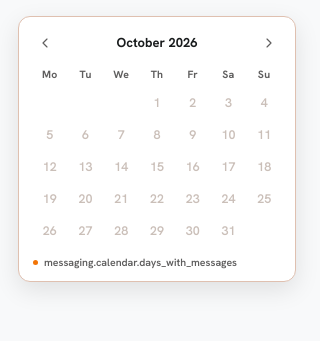
UI-1 DayJumpCalendar › navigating to Aug 2026 shows the 11th and 28th as enabled with a dot, the 12th disabled
Step 1. Click the button named "messaging.calendar.prev_month" → (45, 43), box [33, 31, 57, 55]
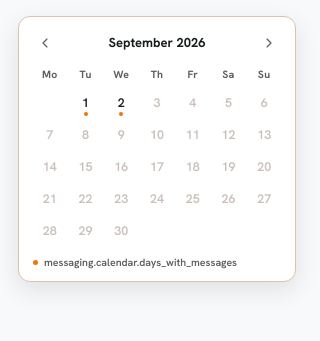
Step 2. Click the button named "messaging.calendar.prev_month" → (45, 43), box [33, 31, 57, 55]
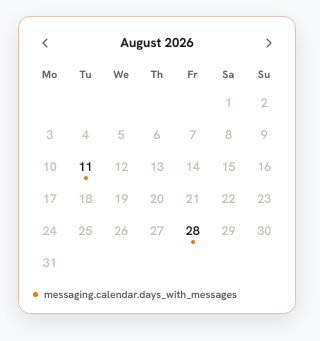
Expected: the button "12" is disabled, [104, 153, 138, 183]
Now the button "11" is enabled, box [69, 153, 102, 183]
Now the button "28" is enabled, box [176, 217, 210, 247]
